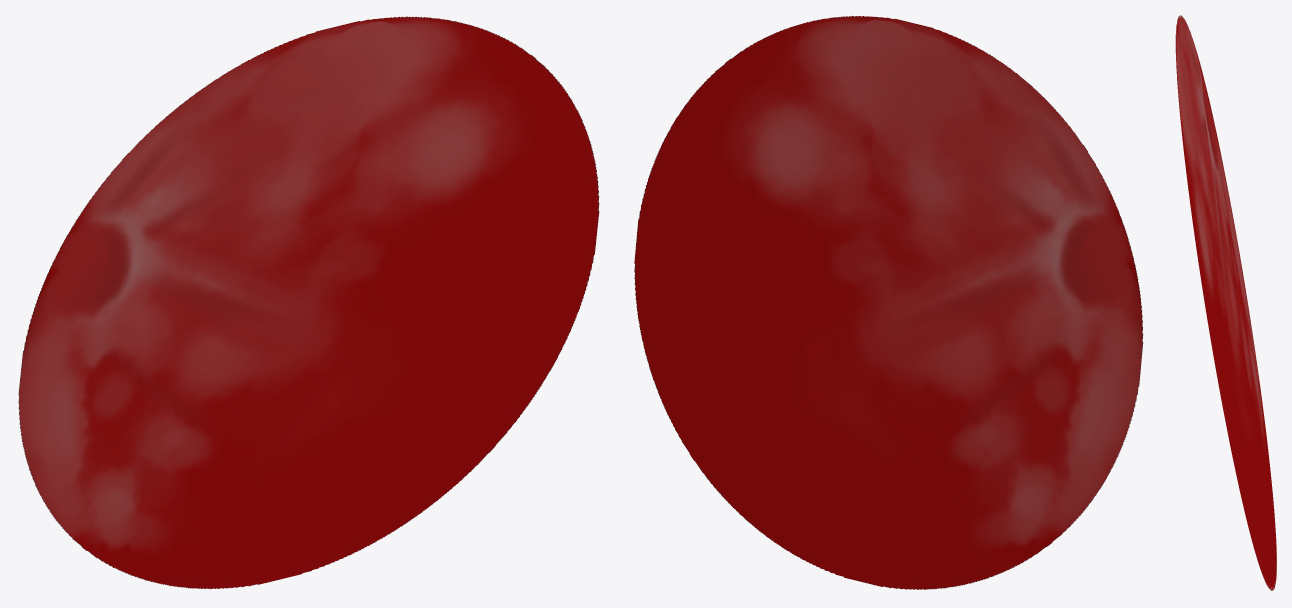
Rendered from MoonQuadro.fbx.
3 renders of one model, left to right at view 1: azimuth 30°, elevation 25°; view 2: azimuth 150°, elevation 25°; view 3: azimuth 270°, elevation 25°, orthographic. The views are drawn at different scales.
Parts seen in each view (by area): view 1: Moon_Low; view 2: Moon_Low; view 3: Moon_Low.
Part boxes in pixels (x1=…): Moon_Low: x1=18, y1=16, x2=599, y2=589; Moon_Low: x1=634, y1=16, x2=1143, y2=589; Moon_Low: x1=1175, y1=15, x2=1276, y2=590.
Bounding box in the file's own units: 103 × 101 × 17.87.
